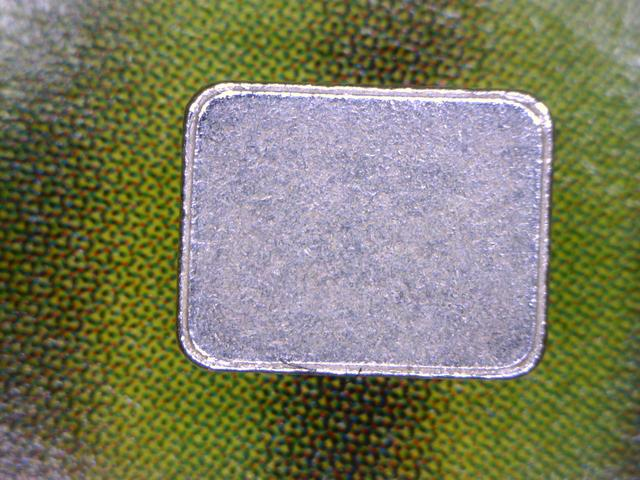nok: (177, 72, 555, 390)
